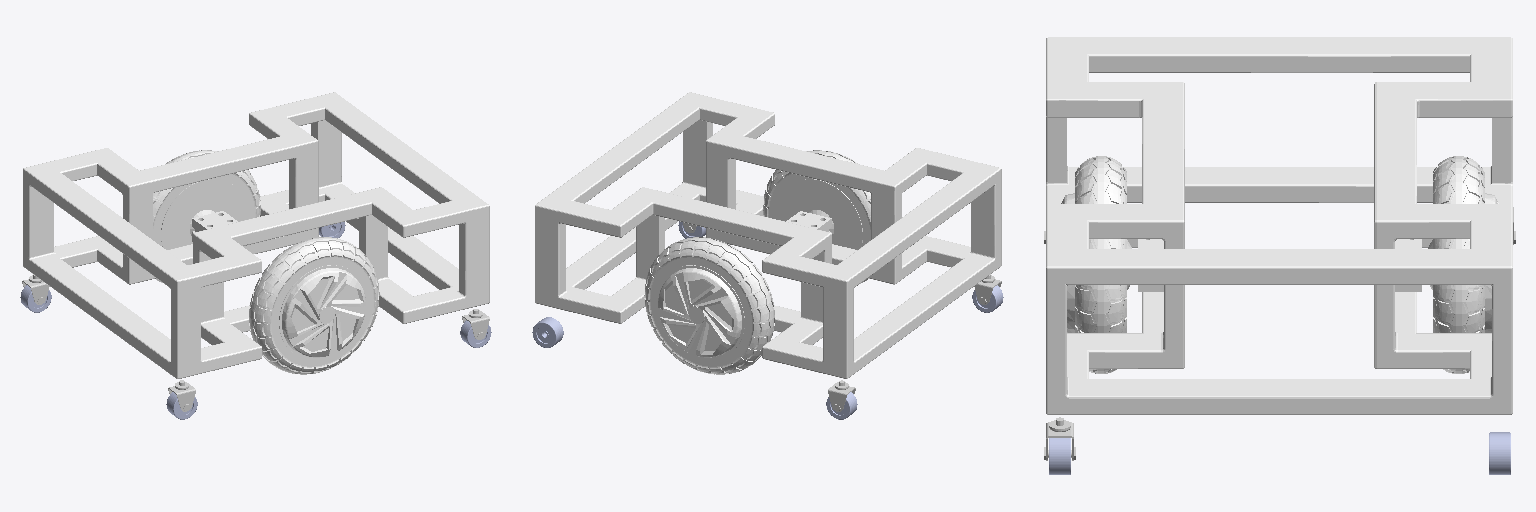
URDF robot description (nova_nav):
<?xml version="1.0" encoding="utf-8"?>
<!-- This URDF was automatically created by SolidWorks to URDF Exporter! Originally created by [author] ([email redacted]) 
     Commit Version: 1.6.0-4-g7f85cfe  Build Version: 1.6.7995.38578
     For more information, please see http://wiki.ros.org/sw_urdf_exporter -->
<robot
  name="nova_nav">
  <link name="base_footprint"/>
  <joint name="base_footprint_to_base_link" type="fixed">
    <origin xyz="0 0 0.20" rpy="1.5708 0 0"/>
    <parent link="base_footprint"/>
    <child link="base_link"/>
  </joint>
  <link
    name="base_link">
    <inertial>
      <origin
        xyz="-0.000348090209876452 -0.0748795009172863 -9.35843189910264E-06"
        rpy="0 0 0" />
      <mass
        value="3.65195395442474" />
      <inertia
        ixx="0.0830856808237229"
        ixy="1.37041419075526E-07"
        ixz="3.71835172364014E-07"
        iyy="0.180243025087059"
        iyz="1.03107156925548E-07"
        izz="0.12308843566881" />
    </inertial>
    <visual>
      <origin
        xyz="0 0 0"
        rpy="0 0 0" />
      <geometry>
        <mesh
          filename="package://nova_nav/meshes/base_link.STL" />
      </geometry>
      <material
        name="">
        <color
          rgba="1 1 1 1" />
      </material>
    </visual>
    <collision>
      <origin
        xyz="0 0 0"
        rpy="0 0 0" />
      <geometry>
        <mesh
          filename="package://nova_nav/meshes/base_link.STL" />
      </geometry>
    </collision>
  </link>
  <link
    name="KIRI_UTAMA">
    <inertial>
      <origin
        xyz="-7.46035397979072E-07 4.81849486815011E-06 -0.0331497387034927"
        rpy="0 0 0" />
      <mass
        value="1.43144480602326" />
      <inertia
        ixx="0.00331965929071568"
        ixy="-5.23867245849175E-09"
        ixz="-5.91992287262301E-08"
        iyy="0.00331969480552574"
        iyz="3.8563873495661E-07"
        izz="0.00595557900945916" />
    </inertial>
    <visual>
      <origin
        xyz="0 0 0"
        rpy="0 0 0" />
      <geometry>
        <mesh
          filename="package://nova_nav/meshes/KIRI_UTAMA.STL" />
      </geometry>
      <material
        name="">
        <color
          rgba="1 1 1 1" />
      </material>
    </visual>
    <collision>
      <origin
        xyz="0 0 0"
        rpy="0 0 0" />
      <geometry>
        <mesh
          filename="package://nova_nav/meshes/KIRI_UTAMA.STL" />
      </geometry>
    </collision>
  </link>
  <joint
    name="KIRI_UTAMA"
    type="continuous">
    <origin
      xyz="-0.0015818 -0.1135 -0.19675"
      rpy="3.1416 0 0" />
    <parent
      link="base_link" />
    <child
      link="KIRI_UTAMA" />
    <axis
      xyz="0 0 1" />
    <limit
      effort="50"
      velocity="50" />
    <dynamics
      damping="0.5"
      friction="0.5" />
  </joint>
  <link
    name="KANAN_UTAMA">
    <inertial>
      <origin
        xyz="7.37719561445804E-07 -4.8197736636506E-06 0.0331497385495518"
        rpy="0 0 0" />
      <mass
        value="1.43144520608886" />
      <inertia
        ixx="0.00331965941926116"
        ixy="-5.5295326770335E-09"
        ixz="-5.9526658072244E-08"
        iyy="0.00331969273741215"
        iyz="3.85588328041861E-07"
        izz="0.00595557706241427" />
    </inertial>
    <visual>
      <origin
        xyz="0 0 0"
        rpy="0 0 0" />
      <geometry>
        <mesh
          filename="package://nova_nav/meshes/KANAN_UTAMA.STL" />
      </geometry>
      <material
        name="">
        <color
          rgba="1 1 1 1" />
      </material>
    </visual>
    <collision>
      <origin
        xyz="0 0 0"
        rpy="0 0 0" />
      <geometry>
        <mesh
          filename="package://nova_nav/meshes/KANAN_UTAMA.STL" />
      </geometry>
    </collision>
  </link>
  <joint
    name="KANAN_UTAMA"
    type="continuous">
    <origin
      xyz="-0.0015818 -0.1135 0.1959"
      rpy="3.1416 0 0" />
    <parent
      link="base_link" />
    <child
      link="KANAN_UTAMA" />
    <axis
      xyz="0 -1 0" />
    <limit
      effort="50"
      velocity="50" />
    <dynamics
      damping="0.5"
      friction="0.5" />
  </joint>
  <link
    name="CASTOR1">
    <inertial>
      <origin
        xyz="-2.77555756156289E-17 -0.0184805994312317 8.32667268468867E-17"
        rpy="0 0 0" />
      <mass
        value="0.00562474956884102" />
      <inertia
        ixx="8.10640465030264E-07"
        ixy="5.04431057290875E-22"
        ixz="1.96293836767954E-22"
        iyy="6.17911693154733E-07"
        iyz="3.87650632277654E-21"
        izz="5.97890190142364E-07" />
    </inertial>
    <visual>
      <origin
        xyz="0 0 0"
        rpy="0 0 0" />
      <geometry>
        <mesh
          filename="package://nova_nav/meshes/CASTOR1.STL" />
      </geometry>
      <material
        name="">
        <color
          rgba="0.898039215686275 0.898039215686275 0.898039215686275 1" />
      </material>
    </visual>
    <collision>
      <origin
        xyz="0 0 0"
        rpy="0 0 0" />
      <geometry>
        <mesh
          filename="package://nova_nav/meshes/CASTOR1.STL" />
      </geometry>
    </collision>
  </link>
  <joint
    name="CASTOR1"
    type="continuous">
    <origin
      xyz="0.230171212422855 -0.15852 -0.198349474349821"
      rpy="0 0 0" />
    <parent
      link="base_link" />
    <child
      link="CASTOR1" />
    <axis
      xyz="0 1 0" />
  </joint>
  <link
    name="CASTOR_RODA1">
    <inertial>
      <origin
        xyz="0 -0.034 -5.55111512312578E-17"
        rpy="0 0 0" />
      <mass
        value="0.0202974816716819" />
      <inertia
        ixx="2.57422305520007E-06"
        ixy="1.60451659232216E-22"
        ixz="8.8304053083525E-24"
        iyy="2.57422305520007E-06"
        iyz="-8.24328739106182E-24"
        izz="3.96551871701517E-06" />
    </inertial>
    <visual>
      <origin
        xyz="0 0 0"
        rpy="0 0 0" />
      <geometry>
        <mesh
          filename="package://nova_nav/meshes/CASTOR_RODA1.STL" />
      </geometry>
      <material
        name="">
        <color
          rgba="0.796078431372549 0.823529411764706 0.937254901960784 1" />
      </material>
    </visual>
    <collision>
      <origin
        xyz="0 0 0"
        rpy="0 0 0" />
      <geometry>
        <mesh
          filename="package://nova_nav/meshes/CASTOR_RODA1.STL" />
      </geometry>
    </collision>
  </link>
  <joint
    name="CASTOR_RODA1"
    type="continuous">
    <origin
      xyz="0 0 0"
      rpy="0 0 0" />
    <parent
      link="CASTOR1" />
    <child
      link="CASTOR_RODA1" />
    <axis
      xyz="0 0 1" />
    <limit
      effort="50"
      velocity="50" />
    <dynamics
      damping="0.5"
      friction="0.5" />
  </joint>
  <link
    name="CASTOR2">
    <inertial>
      <origin
        xyz="0 -0.0184805994312317 5.55111512312578E-17"
        rpy="0 0 0" />
      <mass
        value="0.00562474956884102" />
      <inertia
        ixx="8.10640465030263E-07"
        ixy="5.02421503800225E-22"
        ixz="1.95284094809271E-22"
        iyy="6.17911693154733E-07"
        iyz="3.87279848802643E-21"
        izz="5.97890190142363E-07" />
    </inertial>
    <visual>
      <origin
        xyz="0 0 0"
        rpy="0 0 0" />
      <geometry>
        <mesh
          filename="package://nova_nav/meshes/CASTOR2.STL" />
      </geometry>
      <material
        name="">
        <color
          rgba="0.898039215686275 0.898039215686275 0.898039215686275 1" />
      </material>
    </visual>
    <collision>
      <origin
        xyz="0 0 0"
        rpy="0 0 0" />
      <geometry>
        <mesh
          filename="package://nova_nav/meshes/CASTOR2.STL" />
      </geometry>
    </collision>
  </link>
  <joint
    name="CASTOR2"
    type="continuous">
    <origin
      xyz="0.230171212422855 -0.15852 0.1975"
      rpy="0 0 0" />
    <parent
      link="base_link" />
    <child
      link="CASTOR2" />
    <axis
      xyz="0 1 0" />
  </joint>
  <link
    name="CASTORRODA2">
    <inertial>
      <origin
        xyz="0.46 -0.034 -1.94289029309402E-16"
        rpy="0 0 0" />
      <mass
        value="0.0202974816716819" />
      <inertia
        ixx="2.57422305520008E-06"
        ixy="1.60451659232216E-22"
        ixz="8.8304053083525E-24"
        iyy="2.57422305520007E-06"
        iyz="-8.24328739106182E-24"
        izz="3.96551871701517E-06" />
    </inertial>
    <visual>
      <origin
        xyz="0 0 0"
        rpy="0 0 0" />
      <geometry>
        <mesh
          filename="package://nova_nav/meshes/CASTORRODA2.STL" />
      </geometry>
      <material
        name="">
        <color
          rgba="0.796078431372549 0.823529411764706 0.937254901960784 1" />
      </material>
    </visual>
    <collision>
      <origin
        xyz="0 0 0"
        rpy="0 0 0" />
      <geometry>
        <mesh
          filename="package://nova_nav/meshes/CASTORRODA2.STL" />
      </geometry>
    </collision>
  </link>
  <joint
    name="CASTORRODA2"
    type="continuous">
    <origin
      xyz="-0.46 0 0"
      rpy="0 0 0" />
    <parent
      link="CASTOR2" />
    <child
      link="CASTORRODA2" />
    <axis
      xyz="0 0 1" />
    <limit
      effort="50"
      velocity="50" />
    <dynamics
      damping="0.5"
      friction="0.5" />
  </joint>
  <link
    name="CASTOR_3">
    <inertial>
      <origin
        xyz="0 -0.0184805994312317 -5.55111512312578E-17"
        rpy="0 0 0" />
      <mass
        value="0.00562474956884103" />
      <inertia
        ixx="8.10640465030263E-07"
        ixy="-5.10099766489181E-22"
        ixz="1.42676538761894E-22"
        iyy="6.17911693154733E-07"
        iyz="-3.58994095472061E-21"
        izz="5.97890190142363E-07" />
    </inertial>
    <visual>
      <origin
        xyz="0 0 0"
        rpy="0 0 0" />
      <geometry>
        <mesh
          filename="package://nova_nav/meshes/CASTOR3.STL" />
      </geometry>
      <material
        name="">
        <color
          rgba="0.898039215686275 0.898039215686275 0.898039215686275 1" />
      </material>
    </visual>
    <collision>
      <origin
        xyz="0 0 0"
        rpy="0 0 0" />
      <geometry>
        <mesh
          filename="package://nova_nav/meshes/CASTOR3.STL" />
      </geometry>
    </collision>
  </link>
  <joint
    name="CASTOR_3"
    type="continuous">
    <origin
      xyz="-0.229828787577145 -0.15852 -0.19834947434982"
      rpy="0 0 0" />
    <parent
      link="base_link" />
    <child
      link="CASTOR_3" />
    <axis
      xyz="0 1 0" />
  </joint>
  <link
    name="CASTORRODA3">
    <inertial>
      <origin
        xyz="0 0 0"
        rpy="0 0 0" />
      <mass
        value="0.0202974816716819" />
      <inertia
        ixx="2.57422305520007E-06"
        ixy="-1.63980963179109E-22"
        ixz="6.84517183822523E-24"
        iyy="2.57422305520007E-06"
        iyz="1.00079393645083E-23"
        izz="3.96551871701517E-06" />
    </inertial>
    <visual>
      <origin
        xyz="0 0 0"
        rpy="0 0 0" />
      <geometry>
        <mesh
          filename="package://nova_nav/meshes/CASTORRODA3.STL" />
      </geometry>
      <material
        name="">
        <color
          rgba="0.796078431372549 0.823529411764706 0.937254901960784 1" />
      </material>
    </visual>
    <collision>
      <origin
        xyz="0 0 0"
        rpy="0 0 0" />
      <geometry>
        <mesh
          filename="package://nova_nav/meshes/CASTORRODA3.STL" />
      </geometry>
    </collision>
  </link>
  <joint
    name="CASTORRODA3"
    type="continuous">
    <origin
      xyz="0 -0.034 0"
      rpy="0 0 0" />
    <parent
      link="CASTOR_3" />
    <child
      link="CASTORRODA3" />
    <axis
      xyz="0 0 -1" />
    <limit
      effort="50"
      velocity="50" />
    <dynamics
      damping="0.5"
      friction="0.5" />
  </joint>
  <link
    name="CASTOR_4">
    <inertial>
      <origin
        xyz="-5.55111512312578E-17 0.0155194005687683 -5.55111512312578E-17"
        rpy="0 0 0" />
      <mass
        value="0.00562474956884103" />
      <inertia
        ixx="8.10640465030263E-07"
        ixy="-5.06966966936254E-22"
        ixz="1.42171667782553E-22"
        iyy="6.17911693154733E-07"
        iyz="-3.52866204226364E-21"
        izz="5.97890190142364E-07" />
    </inertial>
    <visual>
      <origin
        xyz="0 0 0"
        rpy="0 0 0" />
      <geometry>
        <mesh
          filename="package://nova_nav/meshes/CASTOR4.STL" />
      </geometry>
      <material
        name="">
        <color
          rgba="0.898039215686275 0.898039215686275 0.898039215686275 1" />
      </material>
    </visual>
    <collision>
      <origin
        xyz="0 0 0"
        rpy="0 0 0" />
      <geometry>
        <mesh
          filename="package://nova_nav/meshes/CASTOR4.STL" />
      </geometry>
    </collision>
  </link>
  <joint
    name="CASTOR_4"
    type="continuous">
    <origin
      xyz="-0.229828787577145 -0.19252 0.1975"
      rpy="0 0 0" />
    <parent
      link="base_link" />
    <child
      link="CASTOR_4" />
    <axis
      xyz="0 1 0" />
  </joint>
  <link
    name="CASTORRODA4">
    <inertial>
      <origin
        xyz="-0.46 0 2.4980018054066E-16"
        rpy="0 0 0" />
      <mass
        value="0.0202974816716819" />
      <inertia
        ixx="2.57422305520008E-06"
        ixy="-1.63980963179109E-22"
        ixz="6.84517183822523E-24"
        iyy="2.57422305520007E-06"
        iyz="1.00079393645083E-23"
        izz="3.96551871701517E-06" />
    </inertial>
    <visual>
      <origin
        xyz="0 0 0"
        rpy="0 0 0" />
      <geometry>
        <mesh
          filename="package://nova_nav/meshes/CASTORRODA4.STL" />
      </geometry>
      <material
        name="">
        <color
          rgba="0.796078431372549 0.823529411764706 0.937254901960784 1" />
      </material>
    </visual>
    <collision>
      <origin
        xyz="0 0 0"
        rpy="0 0 0" />
      <geometry>
        <mesh
          filename="package://nova_nav/meshes/CASTORRODA4.STL" />
      </geometry>
    </collision>
  </link>
  <joint
    name="CASTORRODA4"
    type="continuous">
    <origin
      xyz="0.46 0 0"
      rpy="0 0 0" />
    <parent
      link="CASTOR_4" />
    <child
      link="CASTORRODA4" />
    <axis
      xyz="0 0 -1" />
    <limit
      effort="50"
      velocity="50" />
    <dynamics
      damping="0.5"
      friction="0.5" />
  </joint>

  <joint type="fixed" name="laser_joint">
    <origin xyz="-0.245 0.05 0" rpy="-1.5708 0 0"/>
    <child link="laser_frame"/>
    <parent link="base_link"/>
    <axis xyz="0 0 0" rpy="0 0 0"/>
  </joint>

  <link name='laser_frame'>
    <inertial>
      <mass value="1e-5"/>
      <origin xyz="0 0 0" rpy="0 0 0"/>
      <inertia
          ixx="1e-6" ixy="0" ixz="0"
          iyy="1e-6" iyz="0"
          izz="1e-6"
      />
    </inertial>
    <collision name='collision'>
      <origin xyz="0 0 0" rpy="0 0 0"/> 
      <geometry>
        <box size=".1 .1 .1"/>
      </geometry>
    </collision>

    <visual name='laser_frame_visual'>
      <origin xyz="0 0 -0.05" rpy="0 0 0"/>
      <geometry>
        <mesh filename = "package://nova_nav/meshes/lidar.stl"/>
      </geometry>
    </visual>

  </link>
</robot>

--- What the picture shows (computed from the rendered views, not written in the file) ---
Views: 3 orthographic renders of the robot side by side, from view 1: azimuth 30°, elevation 25°; view 2: azimuth 150°, elevation 25°; view 3: azimuth 270°, elevation 25°.
Model nova_nav with 13 links and 12 joints (10 continuous, 2 fixed), rooted at base_footprint, posed all joints at 0.
Links seen in each view (by area): view 1: base_link, KANAN_UTAMA, KIRI_UTAMA; view 2: base_link, KIRI_UTAMA, KANAN_UTAMA, CASTOR_RODA1; view 3: base_link, KANAN_UTAMA, KIRI_UTAMA, CASTOR_RODA1, CASTORRODA2, CASTOR2.
Boxes of the visible links, bbox=[...] form: base_link: bbox=[23, 92, 489, 378]; KANAN_UTAMA: bbox=[249, 237, 379, 374]; KIRI_UTAMA: bbox=[153, 150, 260, 282]; base_link: bbox=[535, 92, 1001, 378]; KIRI_UTAMA: bbox=[644, 237, 774, 374]; KANAN_UTAMA: bbox=[763, 150, 870, 283]; CASTOR_RODA1: bbox=[532, 317, 563, 347]; base_link: bbox=[1046, 37, 1512, 414]; KANAN_UTAMA: bbox=[1061, 156, 1131, 373]; KIRI_UTAMA: bbox=[1428, 156, 1498, 373]; CASTOR_RODA1: bbox=[1489, 432, 1510, 474]; CASTORRODA2: bbox=[1049, 438, 1070, 474]; CASTOR2: bbox=[1044, 417, 1075, 460].
Size in the robot's own frame: 0.4981 by 0.4238 by 0.2118 metres.
Meshes: 12 distinct files referenced, 10 mesh visuals loaded (10 binary STL); not drawn: 2 (reference not matched to a file when rendering).